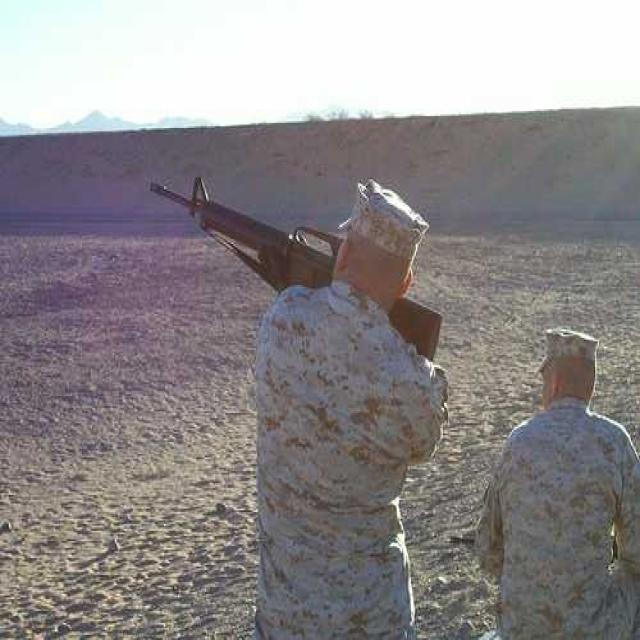heavyweapon: (138, 148, 453, 409)
